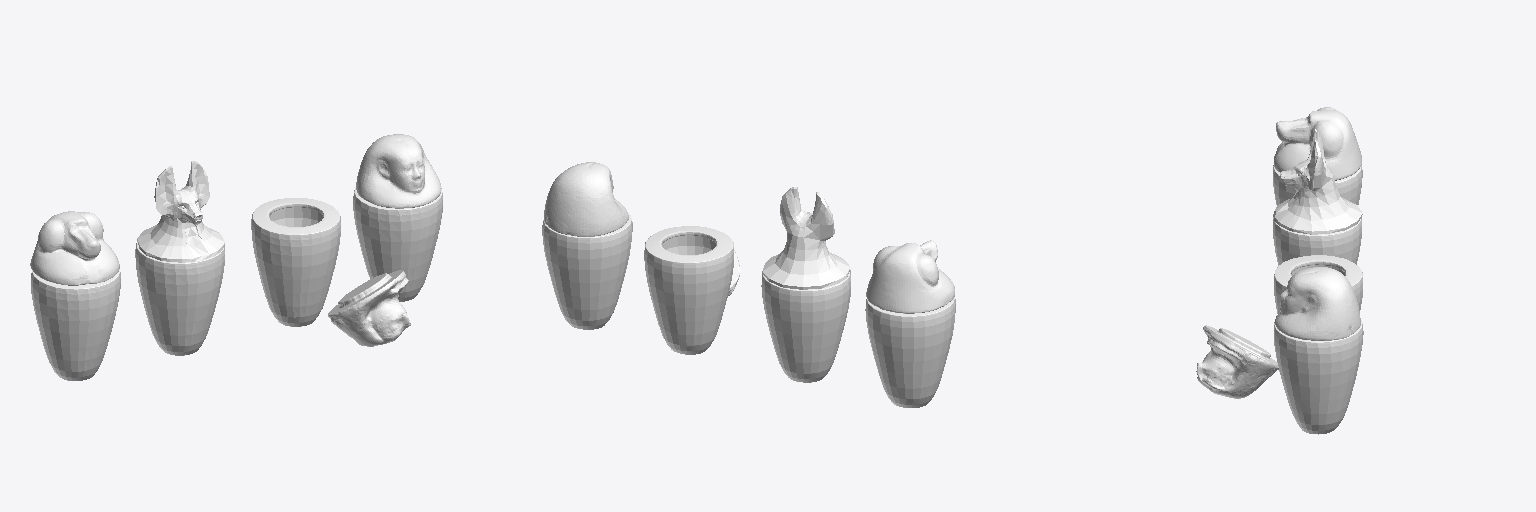
The model's file is CanopicSetFinal.obj.
3 views of the same model, side by side, from view 1: azimuth 30°, elevation 25°; view 2: azimuth 150°, elevation 25°; view 3: azimuth 270°, elevation 25° (orthographic).
Visible parts, largest first — view 1: Object004; view 2: Object004; view 3: Object004.
Boxes of the visible parts, box(x1,y1,x2,y2) form: Object004: box(30, 134, 442, 380); Object004: box(542, 162, 955, 407); Object004: box(1196, 107, 1363, 434).
Bounding box in the file's own units: 22.56 × 10.02 × 8.14.